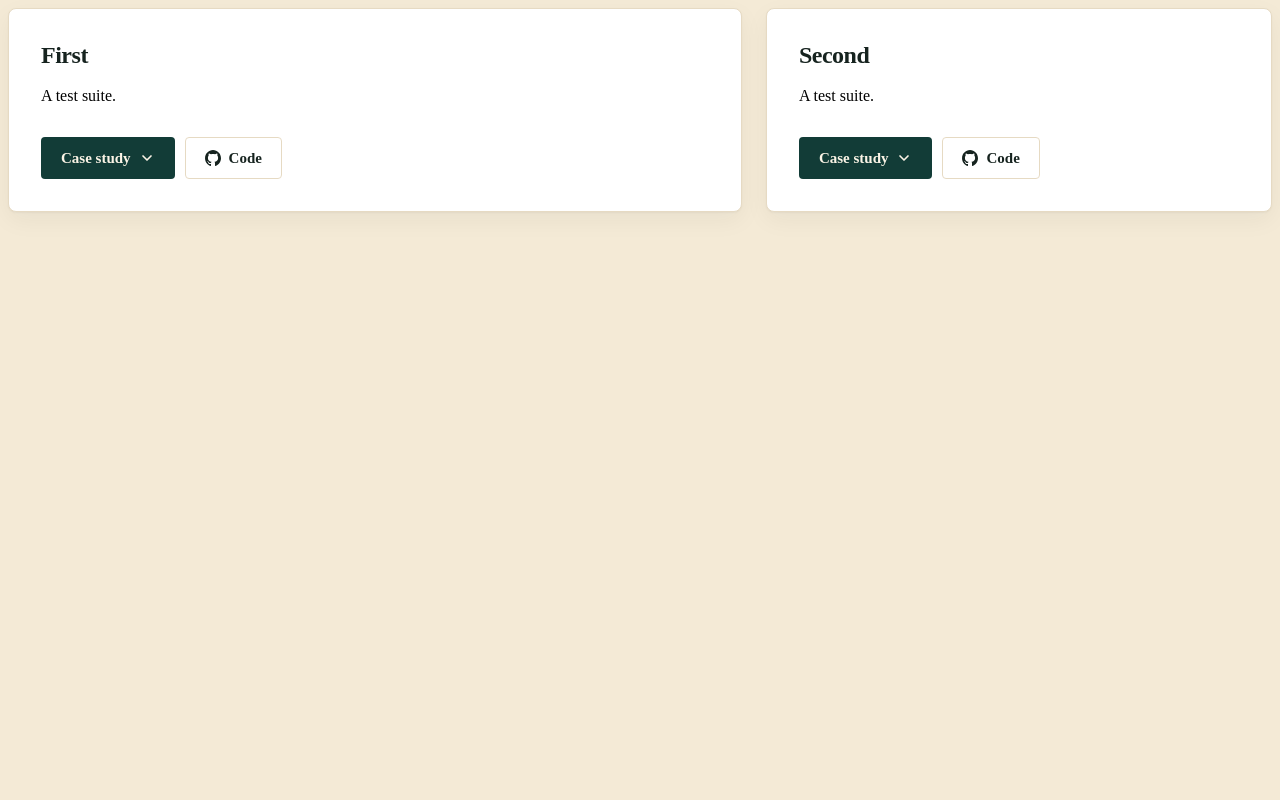
Test case: Projects › keeps closed case studies in the page, hidden, for search engines
This screenshot has width=1280, height=800.
Expected: the text "Second, built." is not shown
What coordinates should you click on to do the following:
click the button "Case study" below "Second"
I would click on:
 (866, 158)
Its box is [799, 137, 932, 179].
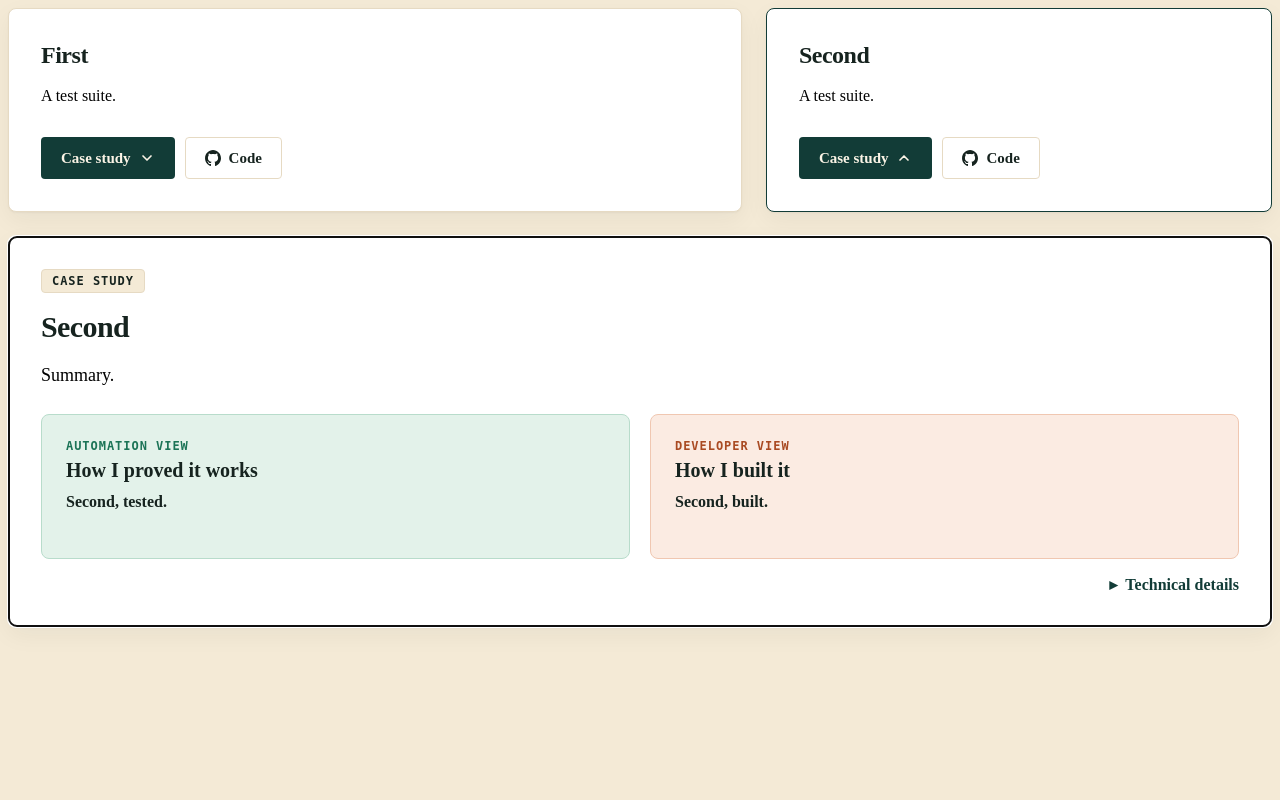
Expected: the text "Second, built." is shown, [675, 493, 768, 510]
